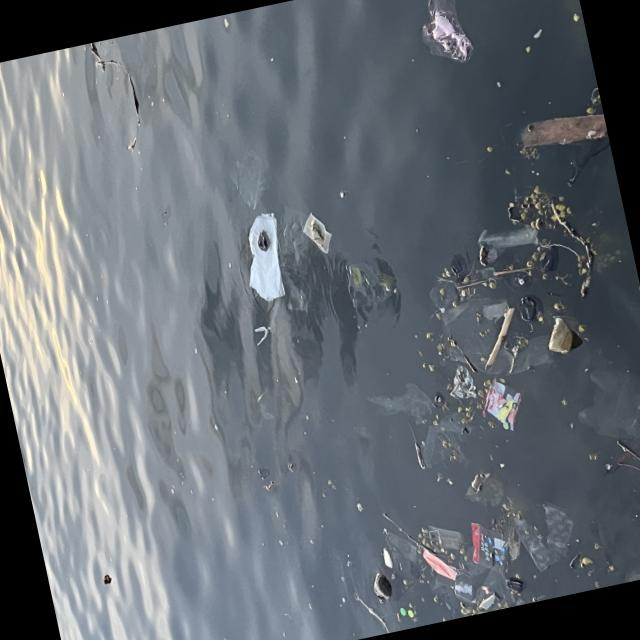foam: (381, 548, 393, 569)
plastic bag: (241, 212, 288, 303), (413, 4, 483, 62)
